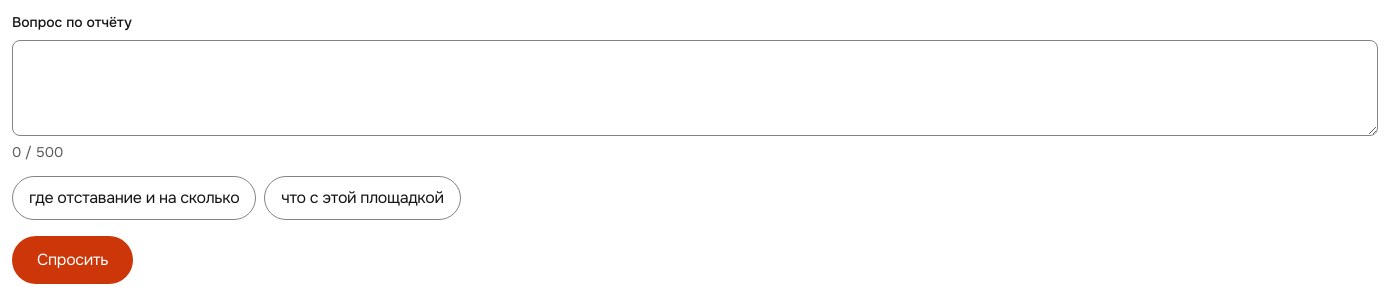
Test: AssistantQuestionForm › fills textarea on example button click without submitting
Click the button "где отставание и на сколько" at {"x": 134, "y": 198}, box [12,176,256,220]
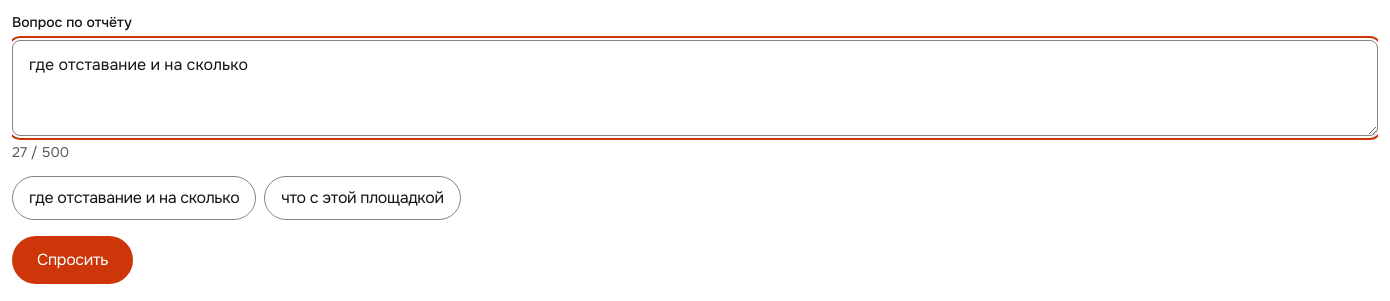
Now the text box labelled "Вопрос по отчёту" holds "где отставание и на сколько", box [12,40,1378,136]
